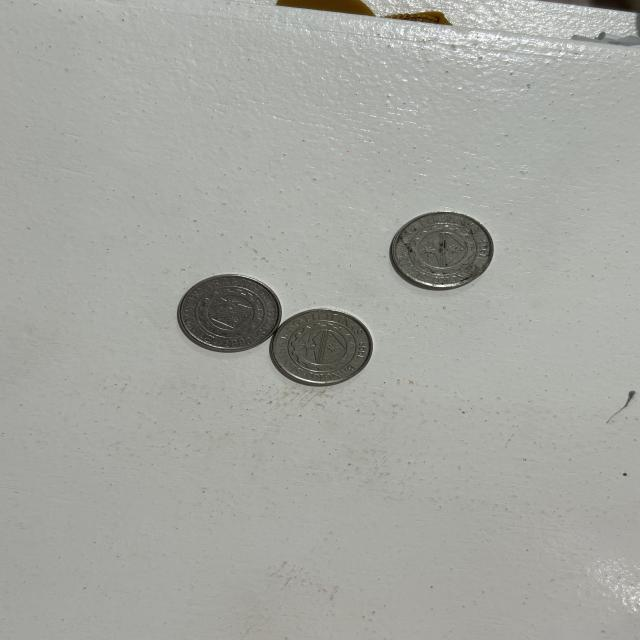1_Old_Back: (404, 220, 486, 281), (194, 287, 273, 339), (284, 320, 359, 373)
